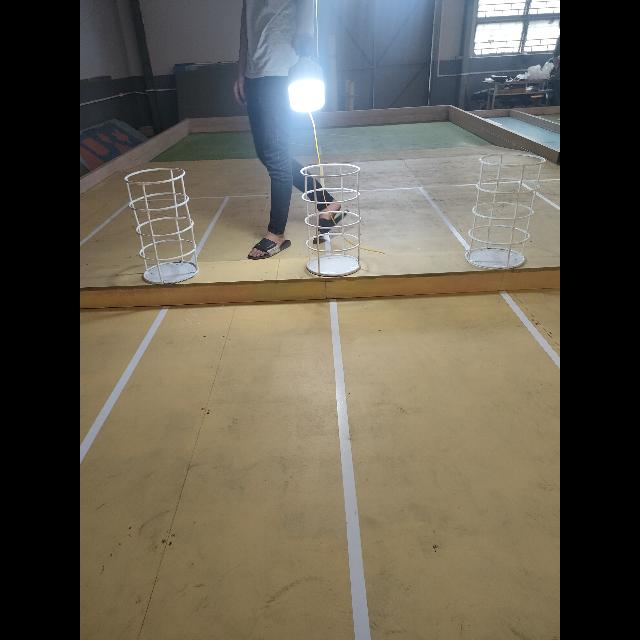S: (462, 152, 546, 270), (124, 167, 202, 285), (299, 162, 365, 276)
